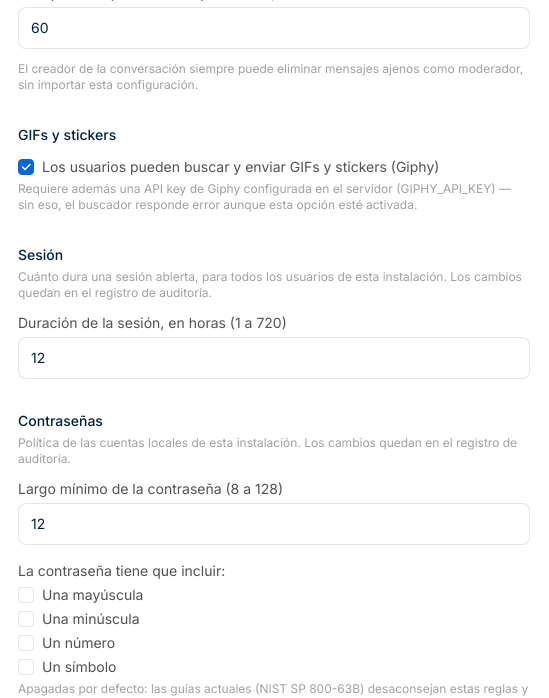
Test case: AdminSettingsPanel › Sesión y contraseñas › advierte que bajar la duración corta las sesiones abiertas
(page scrolled)
Replace the text in the number field labelled "Duración de la sesión, en horas (1 a 720)" with "24". click: (274, 358)
box: [18,337,530,379]
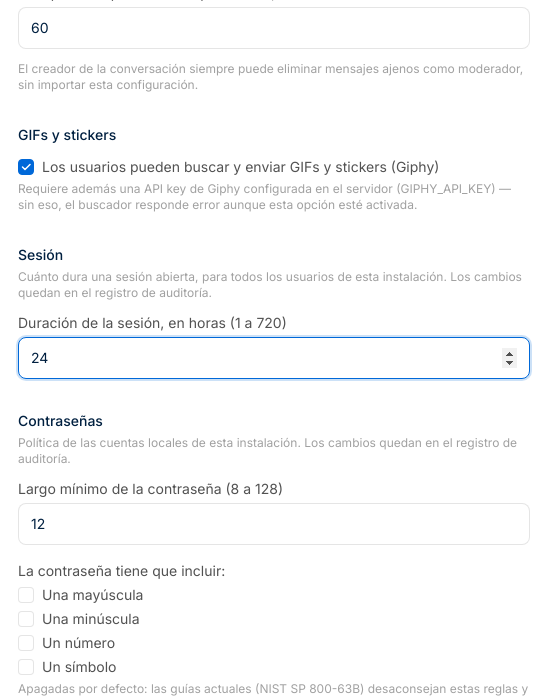
Replace the text in the number field labelled "Duración de la sesión, en horas (1 a 720)" with "4". click: (274, 358)
box: [18,337,530,379]
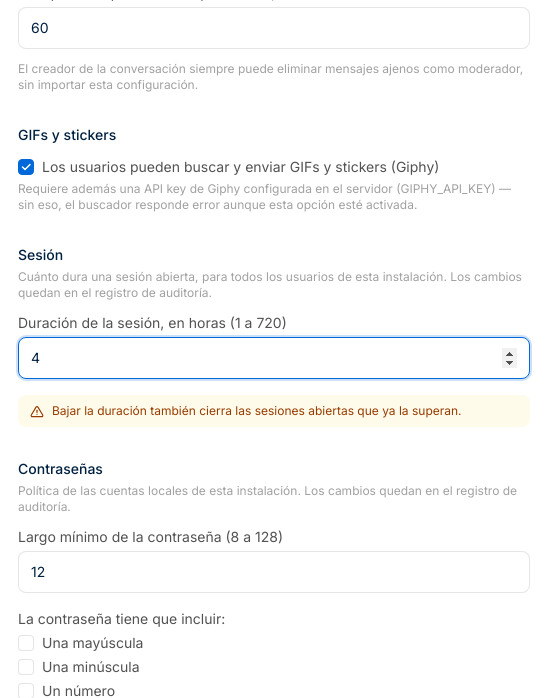
expect the text "también cierra las sesiones abiertas" is shown: met, box [52,403,462,418]
